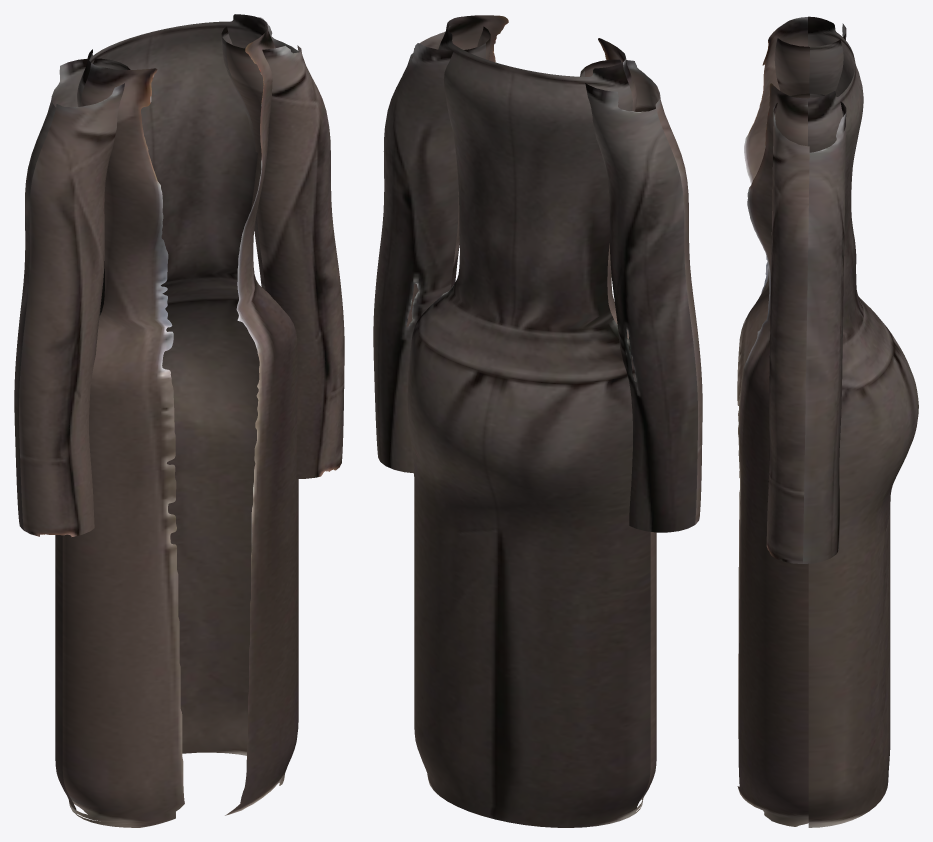
Rendered from prod-ae-camel-silk-wool-coat.glb.
3 views of the same model, side by side, from view 1: azimuth 30°, elevation 25°; view 2: azimuth 150°, elevation 25°; view 3: azimuth 270°, elevation 25° (orthographic). The views are drawn at different scales.
Visible parts, largest first — view 1: prod-ae-camel-silk-wool-coat; view 2: prod-ae-camel-silk-wool-coat; view 3: prod-ae-camel-silk-wool-coat.
Part boxes in pixels (x1,y1,x2,y2): prod-ae-camel-silk-wool-coat: (14,14,344,827); prod-ae-camel-silk-wool-coat: (373,15,702,827); prod-ae-camel-silk-wool-coat: (737,16,918,827).
Size of the model in its own units: 0.4272 by 0.9538 by 0.2244.
1 material, 1 textured.
